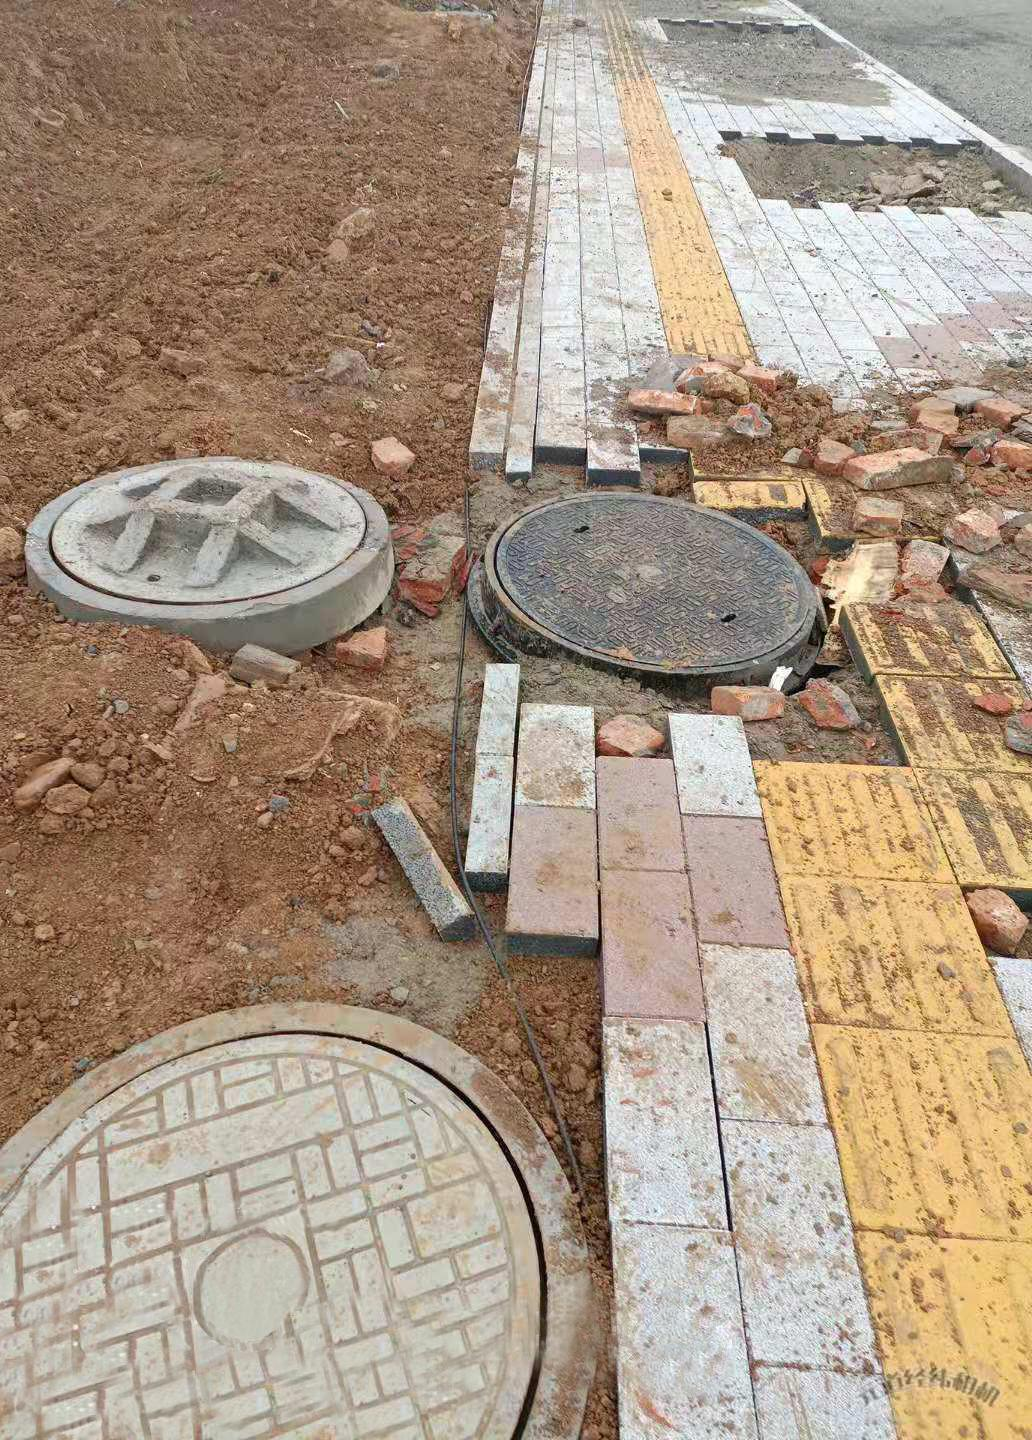wellcover: (10, 978, 592, 1440), (448, 473, 872, 699), (36, 453, 447, 668)
